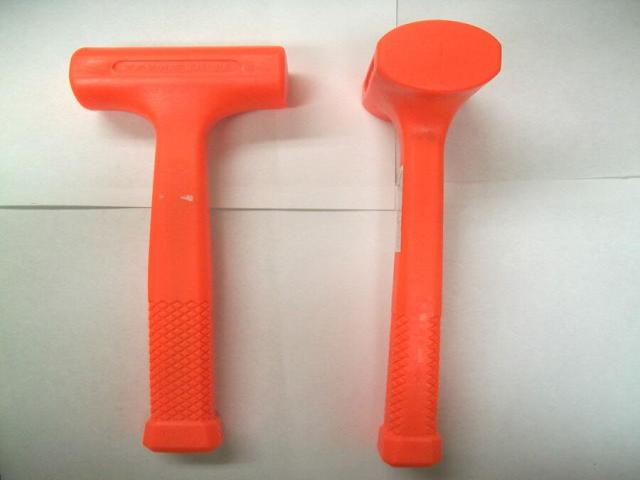hammer: (66, 45, 292, 453), (360, 19, 504, 468)
